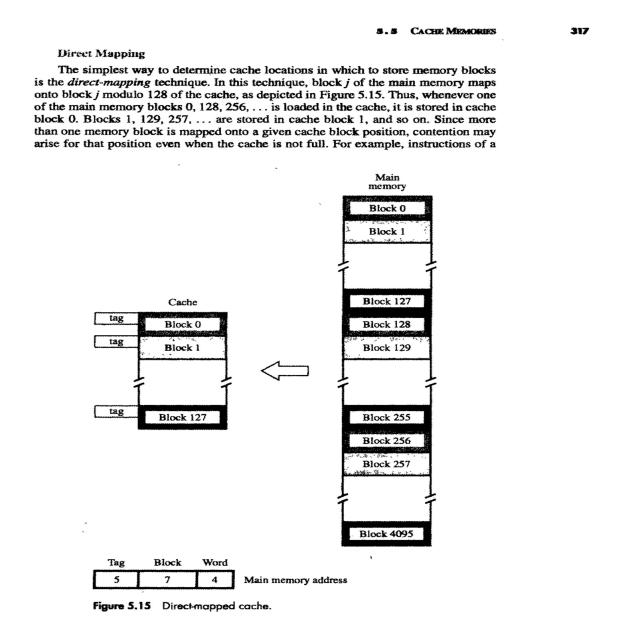diagram: (38, 155, 523, 640)
